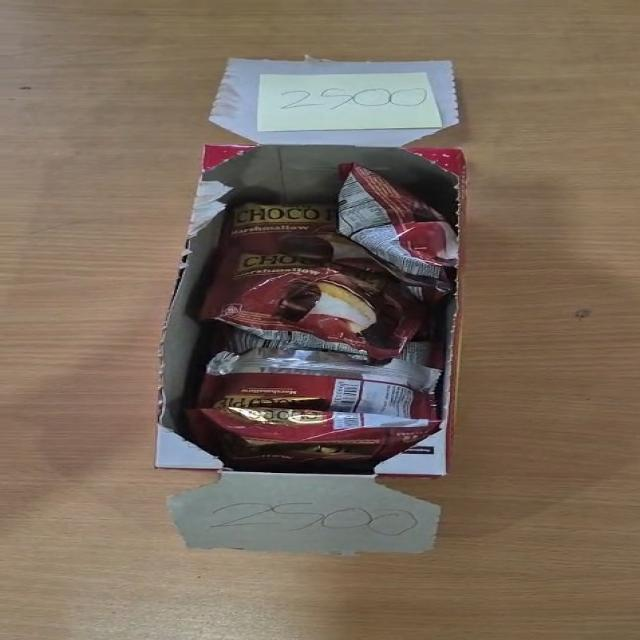Chocopie: (195, 251, 430, 363), (196, 345, 443, 418), (333, 162, 458, 300), (186, 407, 442, 474), (217, 201, 384, 267)
